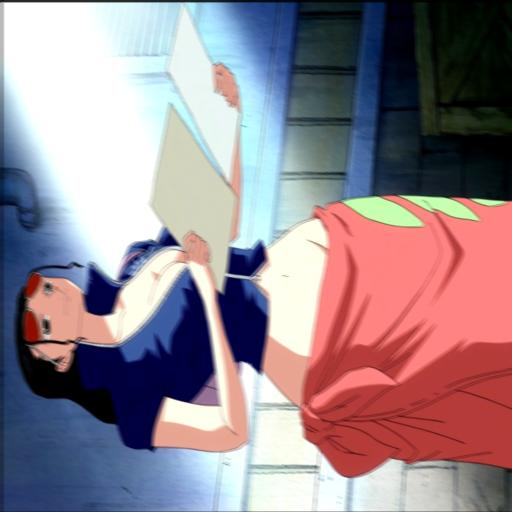NicoRobin: (3, 2, 512, 483)
